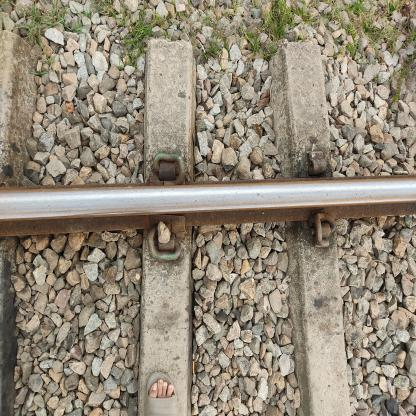Defective: (297, 142, 339, 194)
